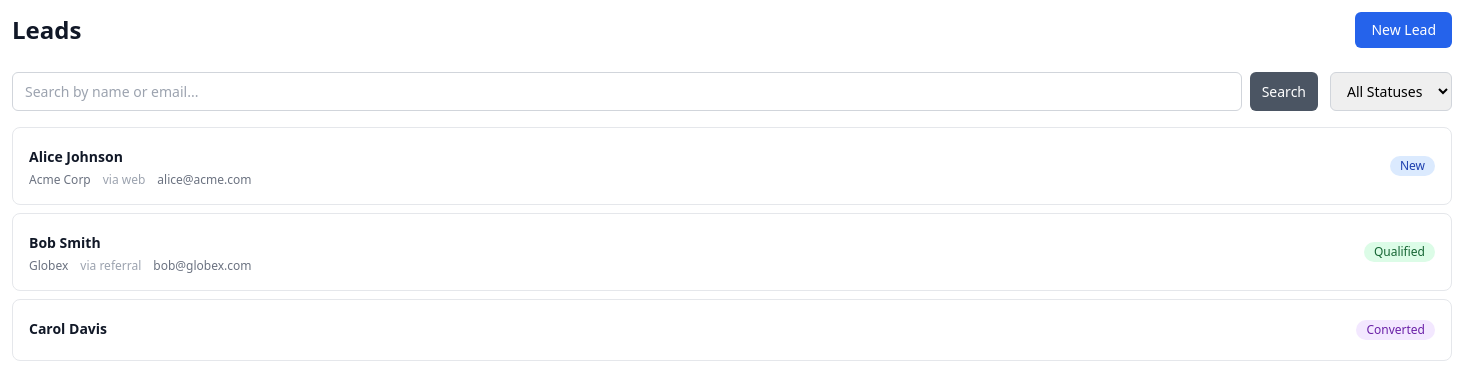
Scenario: LeadsPage — status filter › US4-AC3: clearing status filter shows all leads again
The image size is (1464, 378).
Check: the link "Alice Johnson" is shown, box [29,147,123,166]
Select "Qualified" in the dropdown named "filter by status" at (1391,92), box [1330,72,1452,111]
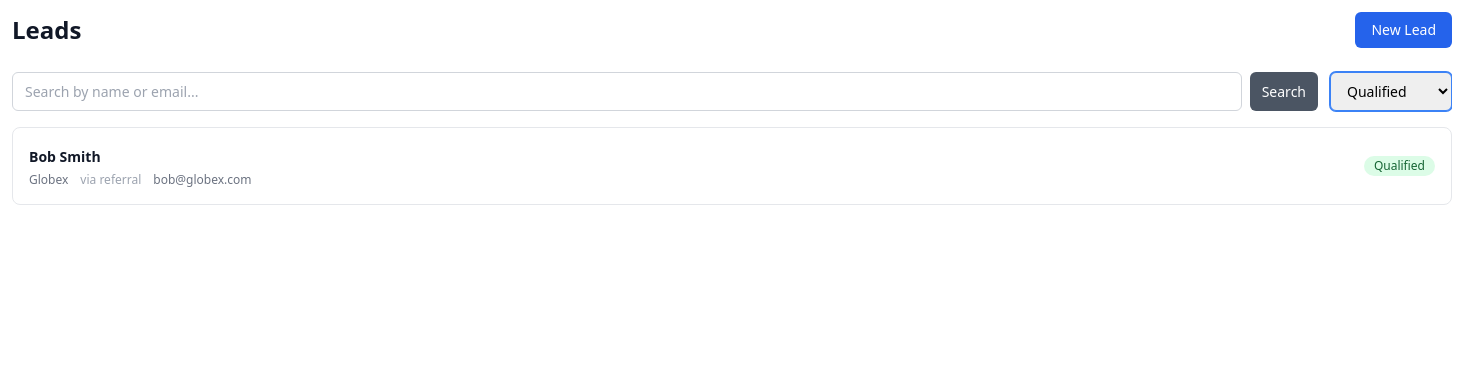
Check: the link "Alice Johnson" is gone
Clear filter
Select "All Statuses" in the dropdown named "filter by status" at (1391,92), box [1330,72,1452,111]
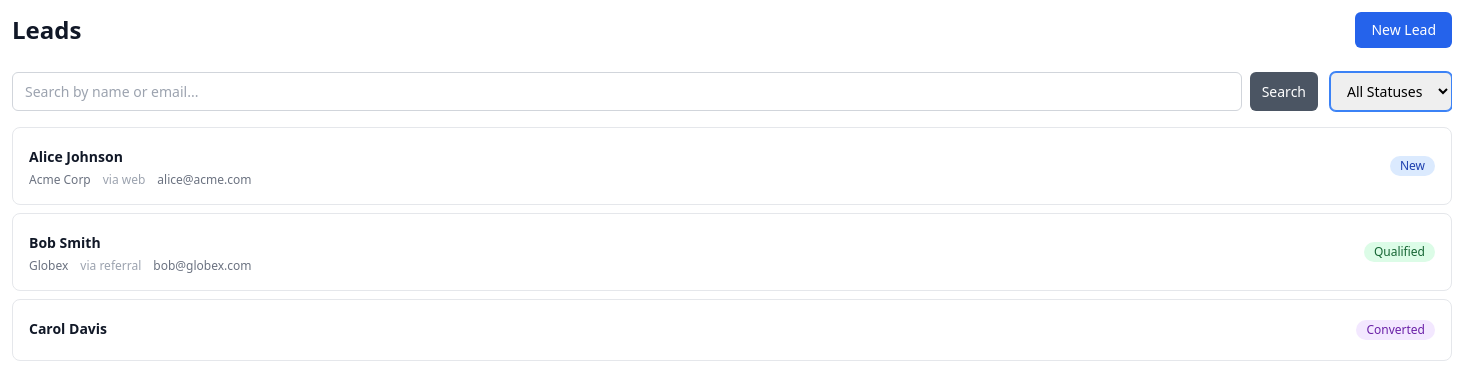
Check: the link "Bob Smith" is shown, box [29,233,101,252]
Check: the link "Alice Johnson" is shown, box [29,147,123,166]
